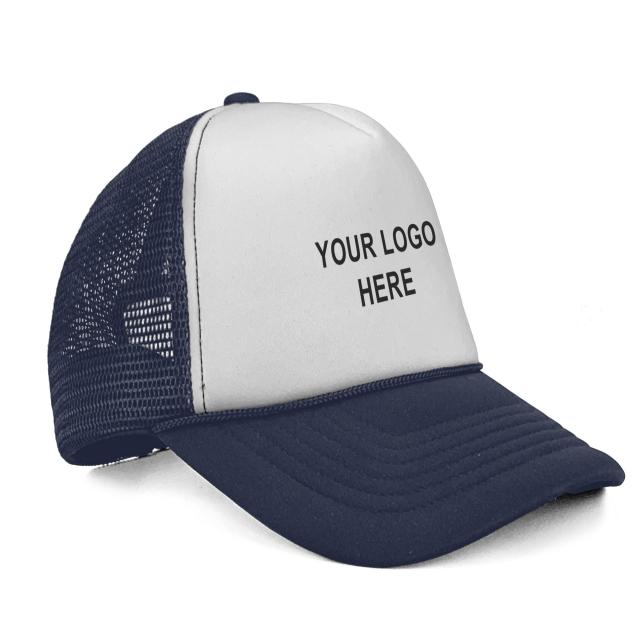no_helmet: (39, 82, 637, 582)
